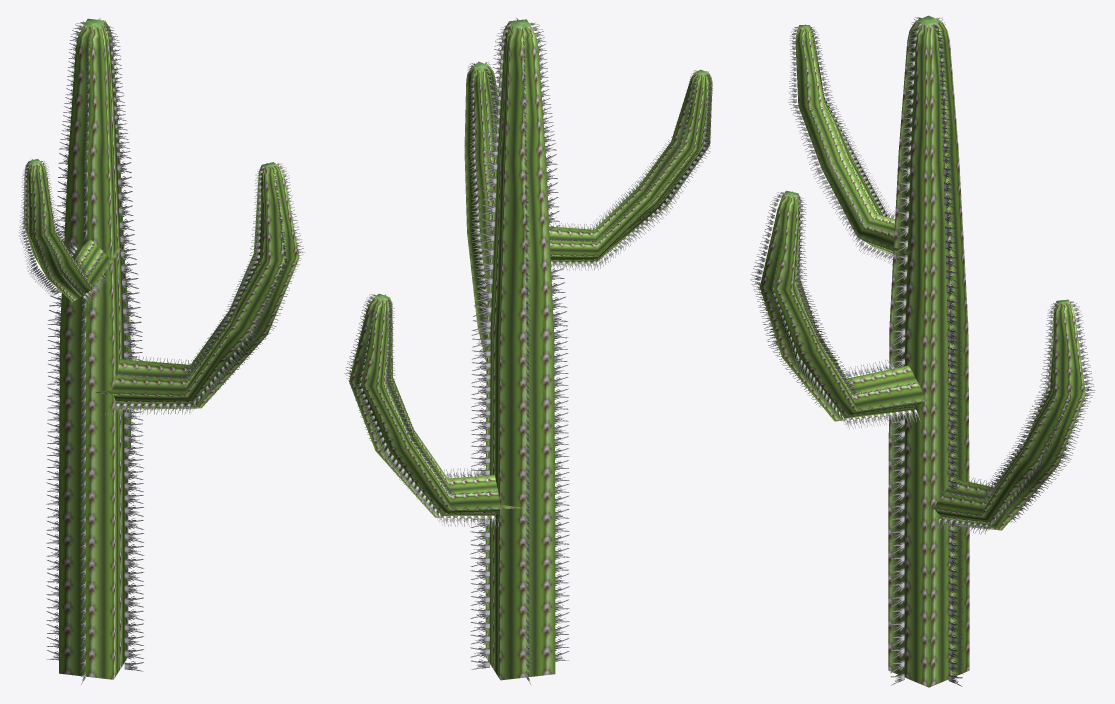
Rendered from des_cactusB.fbx.
3 views of the same model, side by side, from view 1: azimuth 30°, elevation 25°; view 2: azimuth 150°, elevation 25°; view 3: azimuth 270°, elevation 25° (orthographic).
Parts seen in each view (by area): view 1: cactus1.002; view 2: cactus1.002; view 3: cactus1.002.
Boxes of the visible parts, x1,y1,x2,y2 form: cactus1.002: [19, 18, 304, 684]; cactus1.002: [344, 18, 712, 685]; cactus1.002: [750, 15, 1095, 687].
Size of the model in its own units: 159 by 354 by 176.
1 material, 1 textured.
